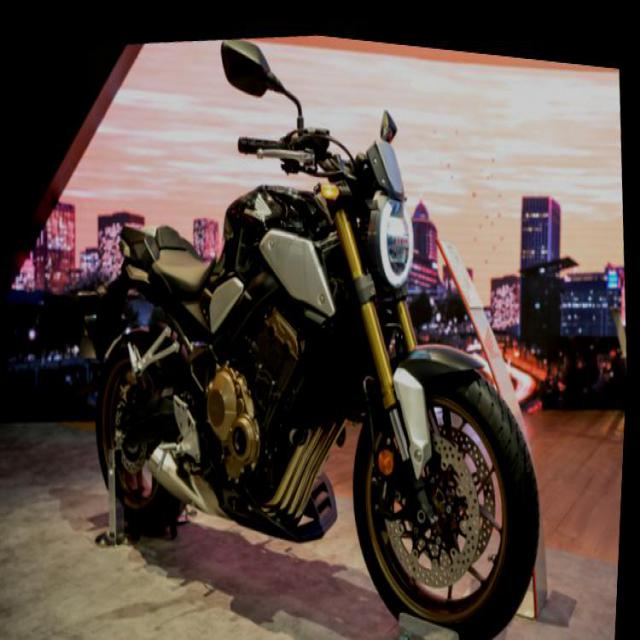CB650R: (51, 6, 572, 639)
